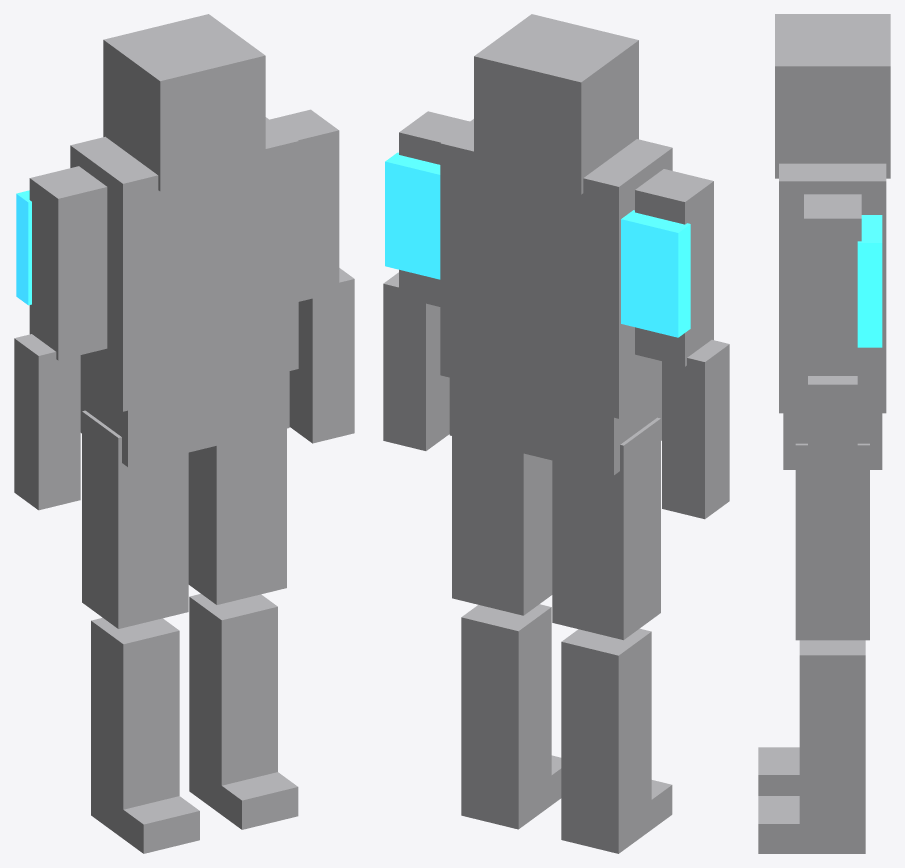
Rendered from triceps.glb.
The picture shows the model from 3 angles, left to right: view 1: azimuth 30°, elevation 25°; view 2: azimuth 150°, elevation 25°; view 3: azimuth 270°, elevation 25°; orthographic projection.
Parts seen in each view (by area): view 1: Mannequin; view 2: Mannequin; view 3: Mannequin.
Boxes of the visible parts, x1,y1,x2,y2 form: Mannequin: (14,14,354,853); Mannequin: (383,14,729,853); Mannequin: (758,14,890,853).
Size of the model in its own units: 0.9 by 2.07 by 0.32.
